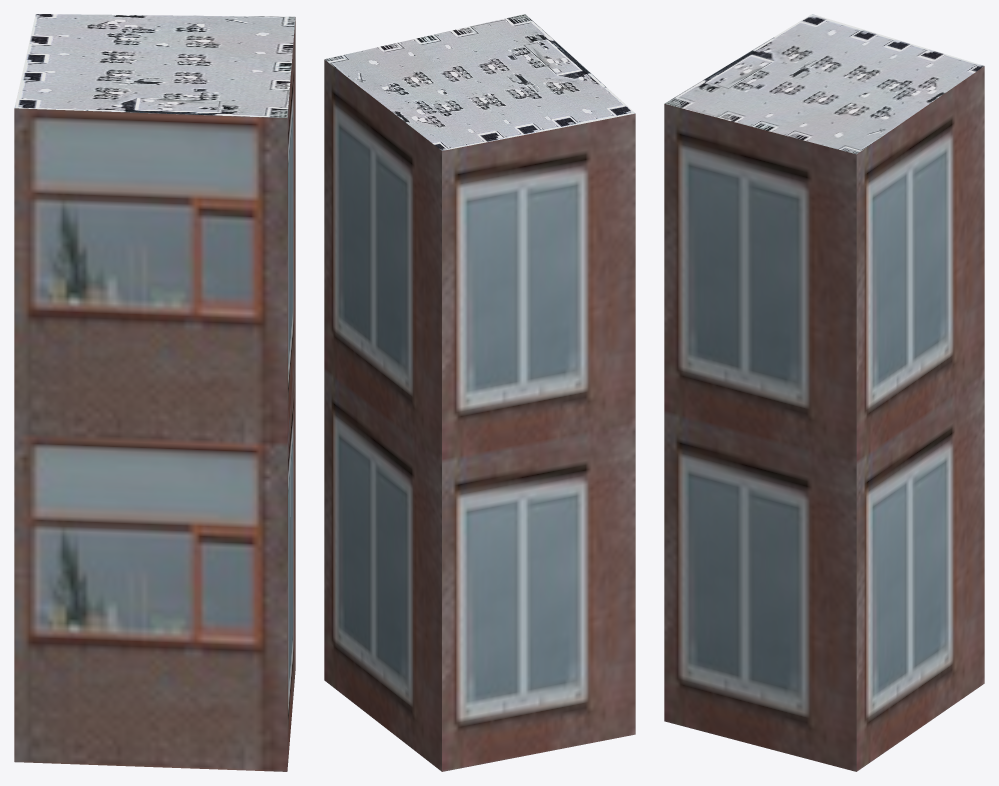
The model's file is ResTex__3855.fbx.
3 renders of one model, left to right at view 1: azimuth 30°, elevation 25°; view 2: azimuth 150°, elevation 25°; view 3: azimuth 270°, elevation 25°, orthographic. The views are drawn at different scales.
Parts seen in each view (by area): view 1: CityEngineMaterial_19_m, CityEngineMaterial_15_m; view 2: CityEngineMaterial_19_m, CityEngineMaterial_15_m; view 3: CityEngineMaterial_19_m, CityEngineMaterial_15_m.
Boxes of the visible parts, x1=… form: CityEngineMaterial_19_m: x1=14, y1=17, x2=295, y2=771; CityEngineMaterial_15_m: x1=14, y1=14, x2=295, y2=117; CityEngineMaterial_19_m: x1=324, y1=59, x2=635, y2=771; CityEngineMaterial_15_m: x1=324, y1=14, x2=635, y2=150; CityEngineMaterial_19_m: x1=664, y1=66, x2=984, y2=771; CityEngineMaterial_15_m: x1=664, y1=14, x2=984, y2=154.
Size of the model in its own units: 2.92 by 6 by 2.82.
2 materials, 2 textured.
